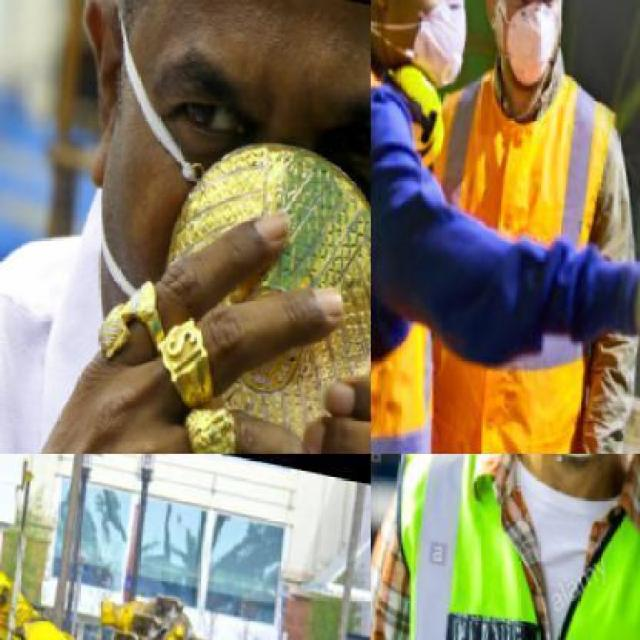Vest: (388, 43, 638, 452), (371, 454, 638, 638), (371, 48, 492, 452)
